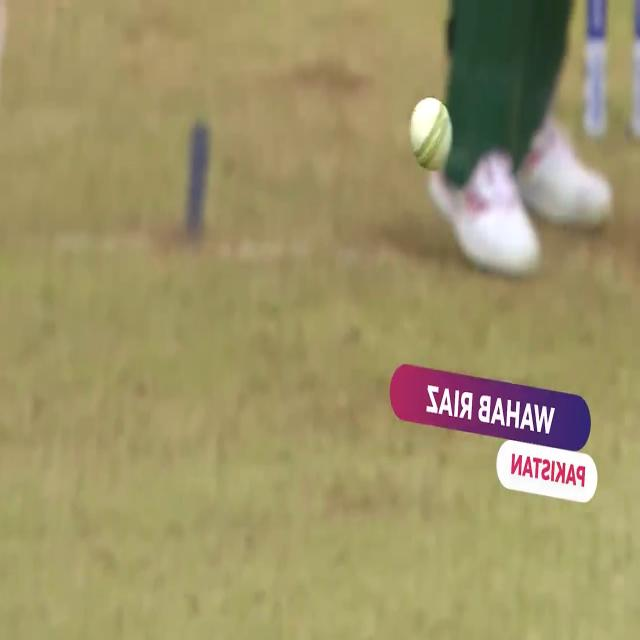ball: (407, 95, 455, 168)
